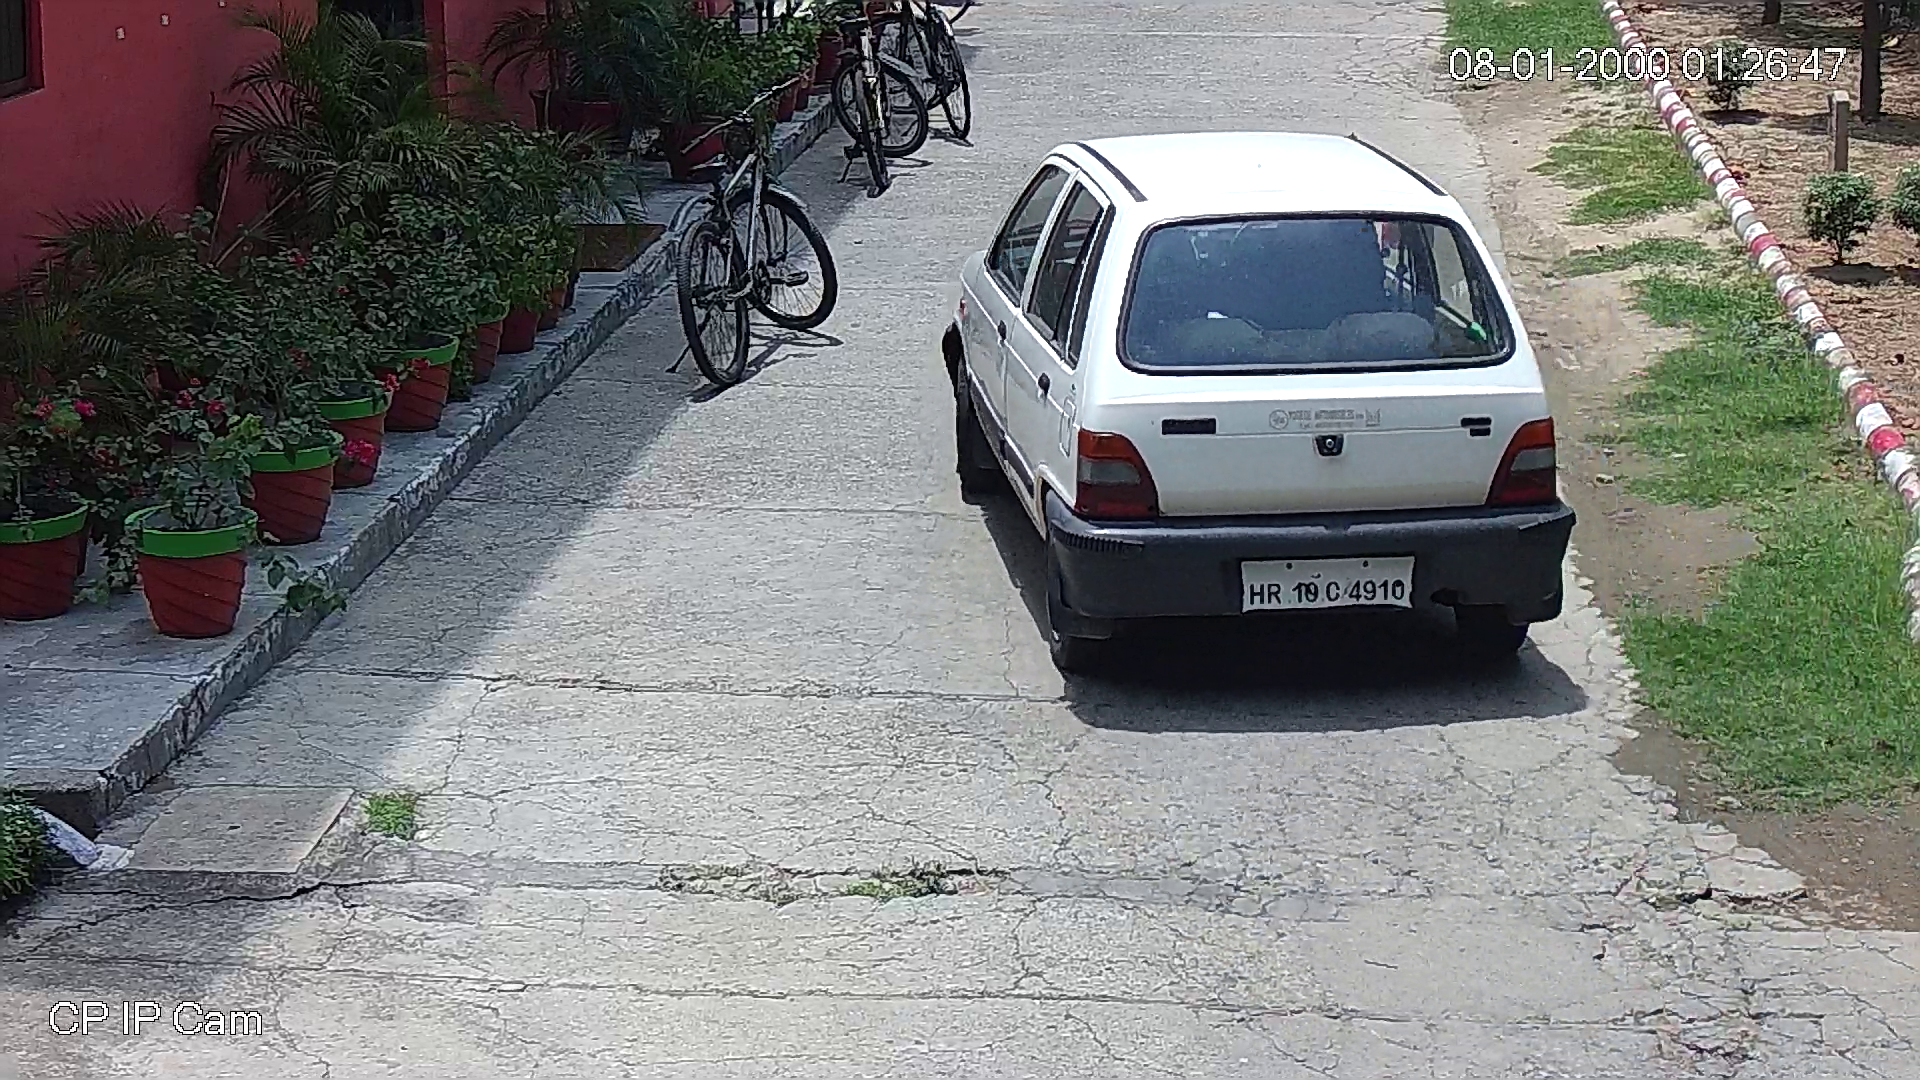plate: (1244, 562, 1409, 615)
